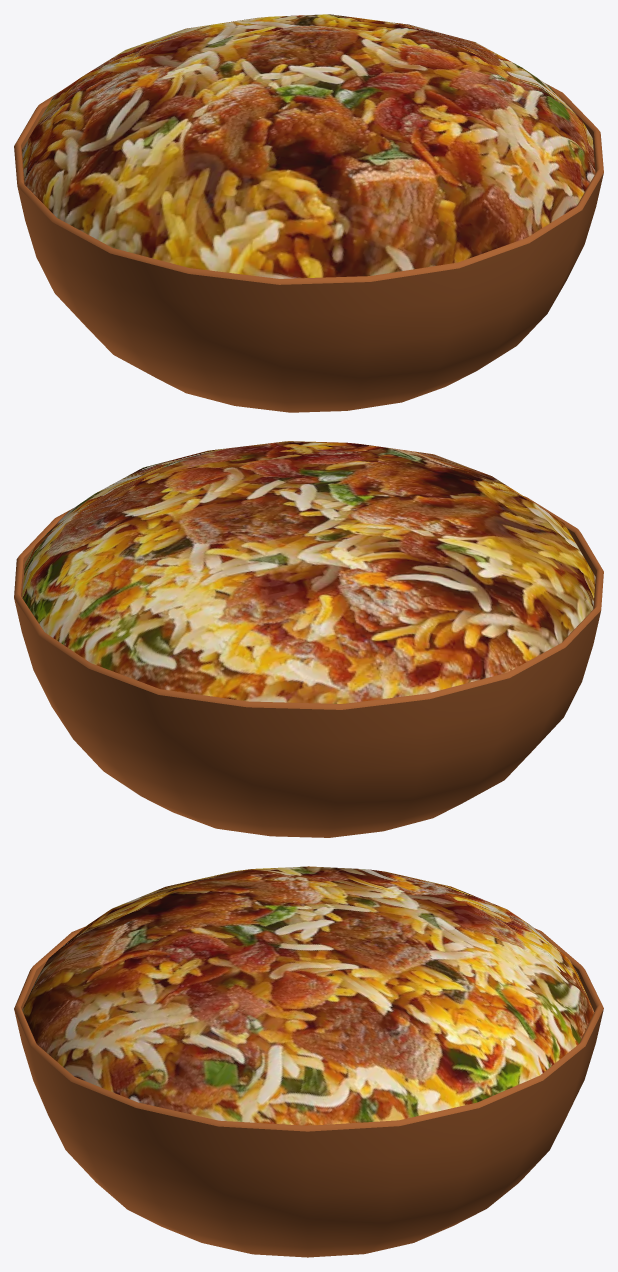
The model's file is biryani1-transformed.glb.
3 renders of one model, top to bottom at view 1: azimuth 30°, elevation 25°; view 2: azimuth 150°, elevation 25°; view 3: azimuth 270°, elevation 25°, orthographic.
Parts seen in each view (by area): view 1: bowl1; view 2: bowl1; view 3: bowl1.
Boxes of the visible parts, x1,y1,x2,y2 form: bowl1: (14,14,603,412); bowl1: (14,441,603,837); bowl1: (14,866,603,1257).
Bounding box in the file's own units: 0.0571 × 0.0315 × 0.0577.
1 material, 1 textured.
